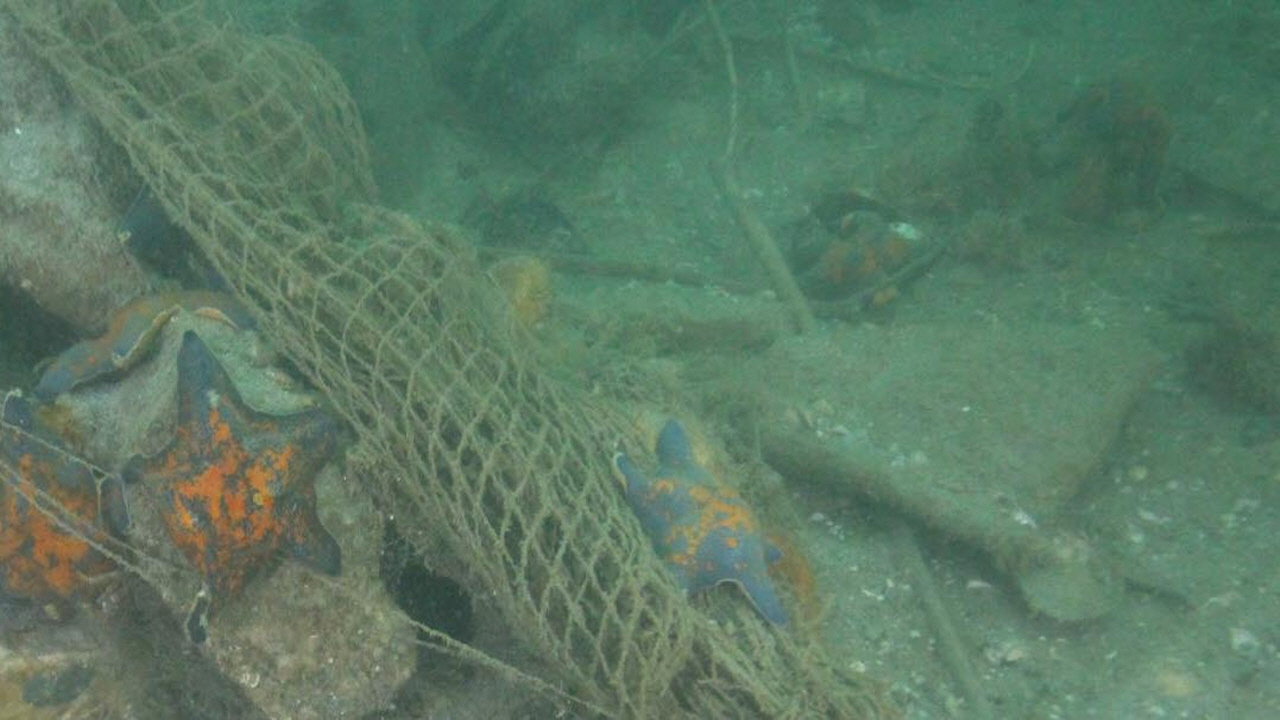fish net: (0, 0, 695, 720)
